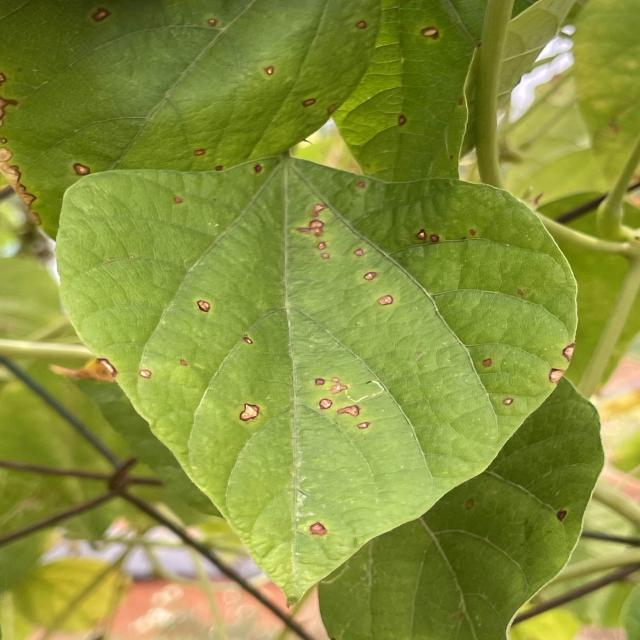Dolicos bean_cercospora leaf spot: (54, 151, 578, 595)
